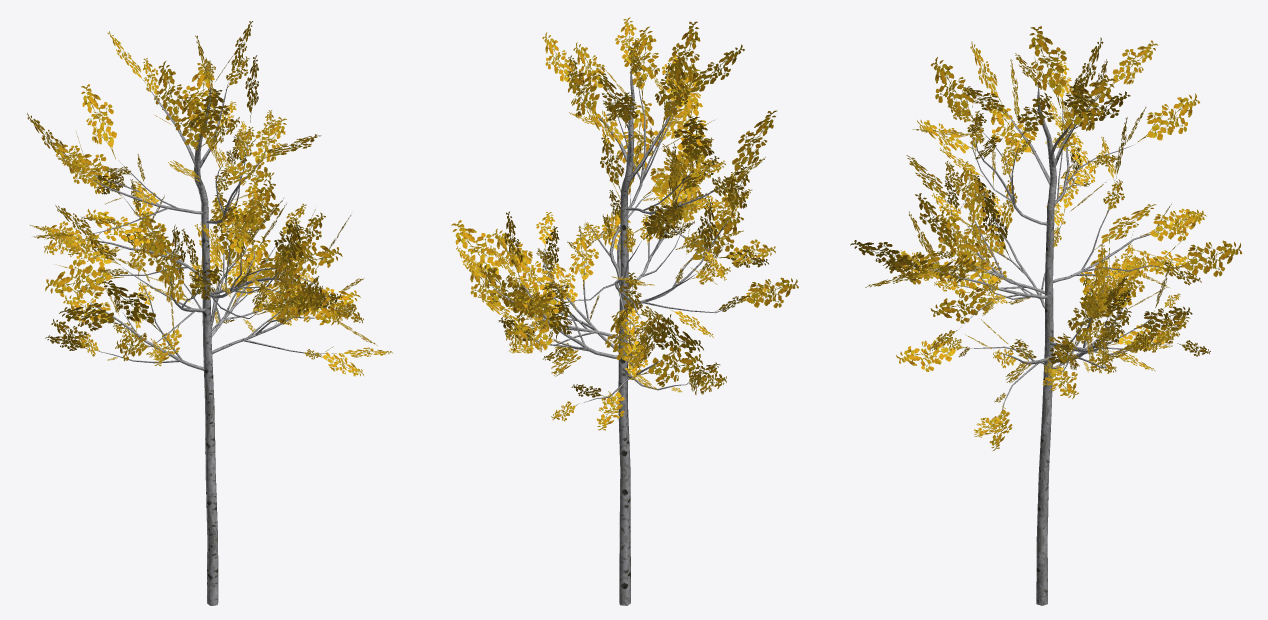
The model's file is aspen_sparse.glb.
3 views of the same model, side by side, from view 1: azimuth 30°, elevation 25°; view 2: azimuth 150°, elevation 25°; view 3: azimuth 270°, elevation 25° (orthographic). The views are drawn at different scales.
Parts seen in each view (by area): view 1: Tree; view 2: Tree; view 3: Tree.
Boxes of the visible parts, x1,y1,x2,y2 form: Tree: (27, 21, 393, 605); Tree: (451, 17, 798, 605); Tree: (850, 26, 1242, 605).
Size of the model in its own units: 45.2 by 72.02 by 48.51.
2 materials, 2 textured.
